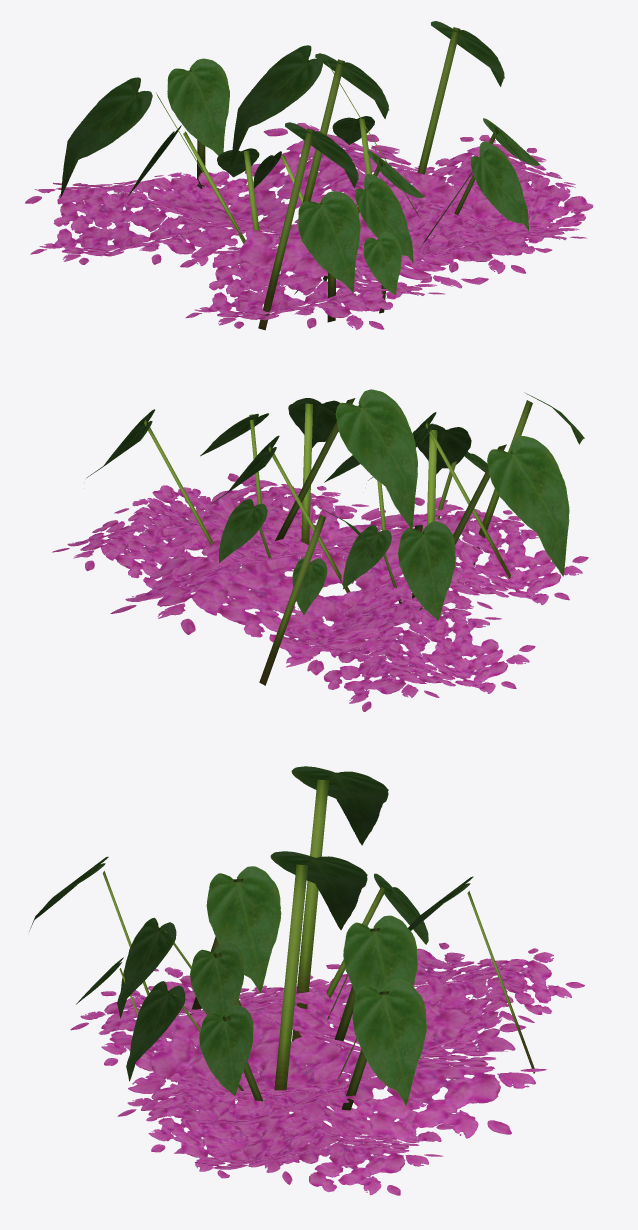
The model's file is leafplant2_purple_lod1.fbx.
3 views of the same model, one above another, from view 1: azimuth 30°, elevation 25°; view 2: azimuth 150°, elevation 25°; view 3: azimuth 270°, elevation 25° (orthographic). The views are drawn at different scales.
Parts seen in each view (by area): view 1: Mesh Object; view 2: Mesh Object; view 3: Mesh Object.
Part boxes in pixels (box(x1,y1,x2,y2)): Mesh Object: box(25, 21, 593, 330); Mesh Object: box(52, 389, 588, 711); Mesh Object: box(29, 766, 584, 1195).
Bounding box in the file's own units: 4.07 × 1.52 × 3.64.
